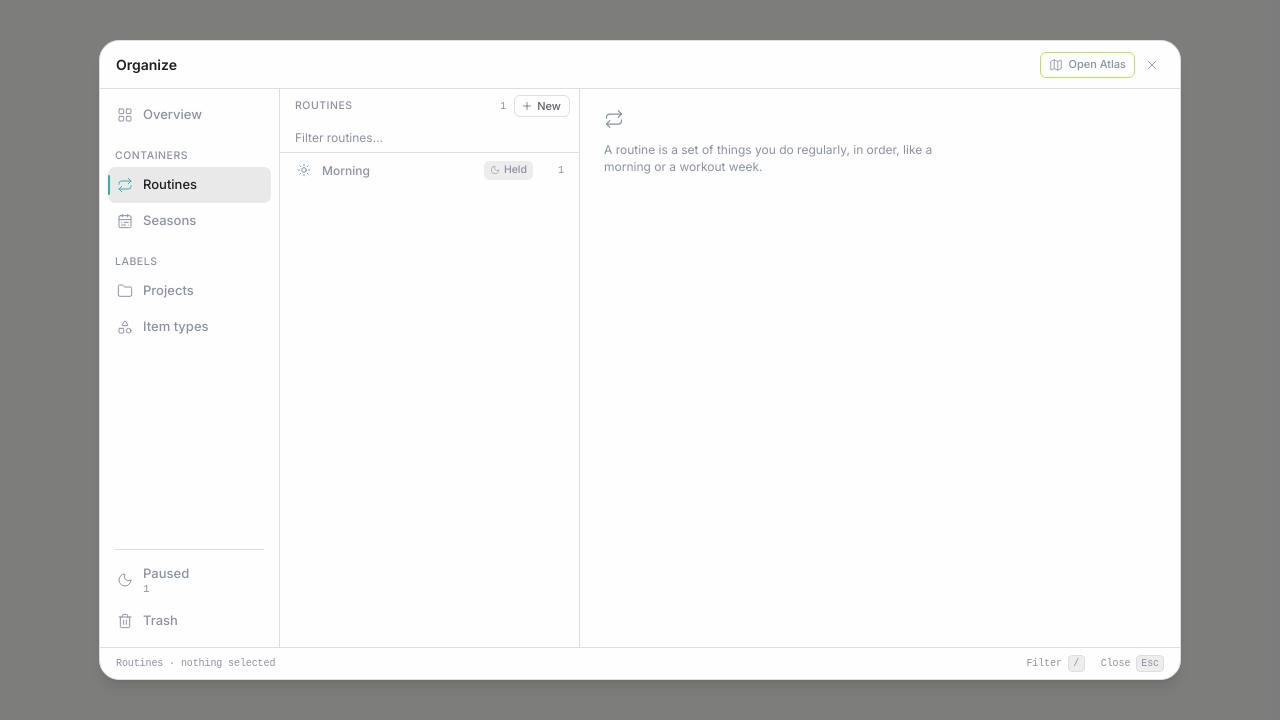
a routine a season is holding off › counts the blockers rather than naming them all
The image size is (1280, 720).
What coordinates should you click on to do the following:
click the button with test id "routine-row"
I would click on:
 (346, 170)
Its box is top-left (288, 153), bottom-right (571, 187).
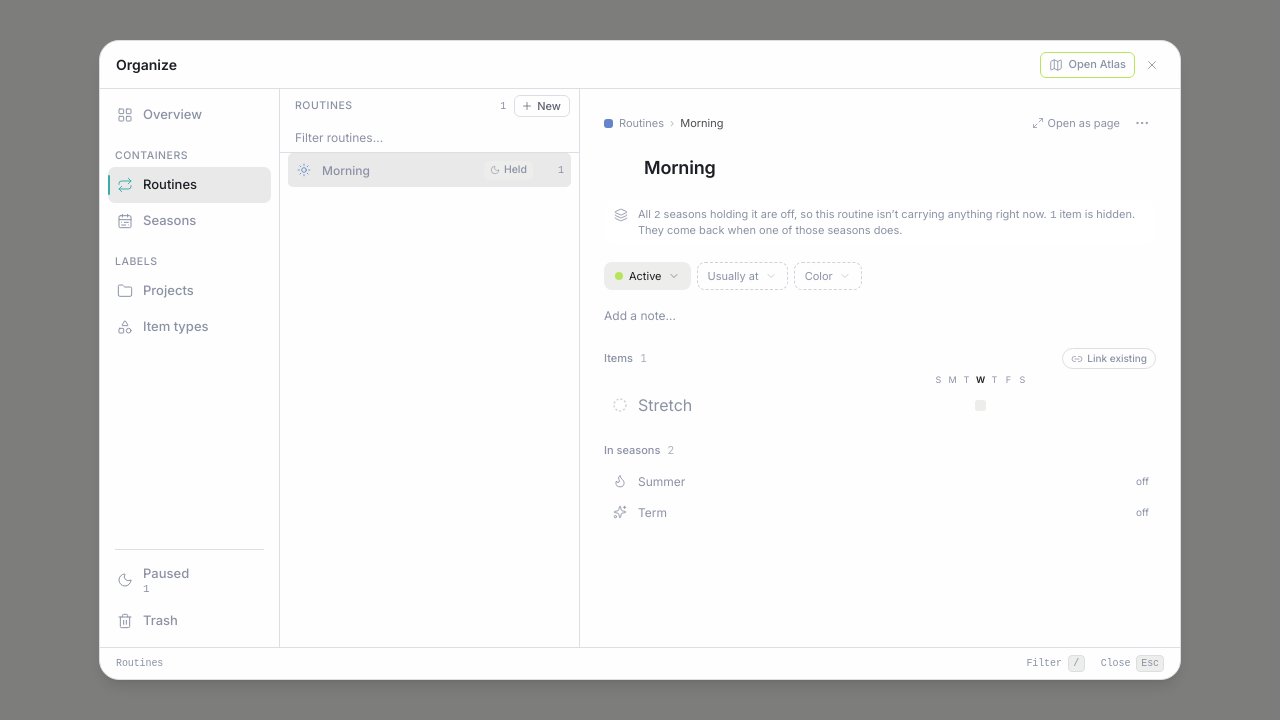
Check: the element with test id "routine-held-note" shows "All 2 seasons holding it are off", box top-left (604, 199), bottom-right (1156, 246)
